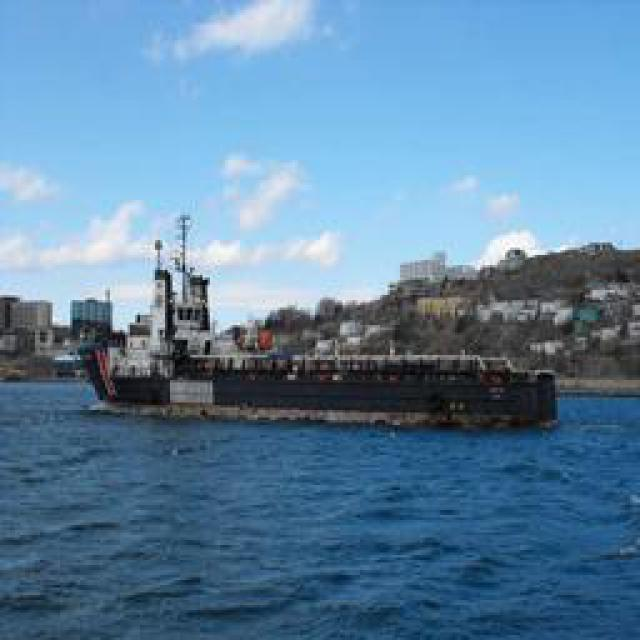Ship: (92, 359, 560, 424)
